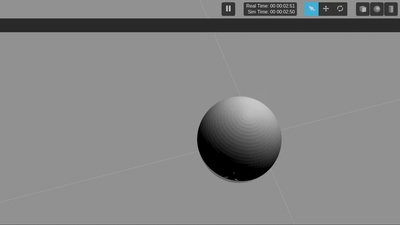mira_robot: (198, 96, 282, 182)
